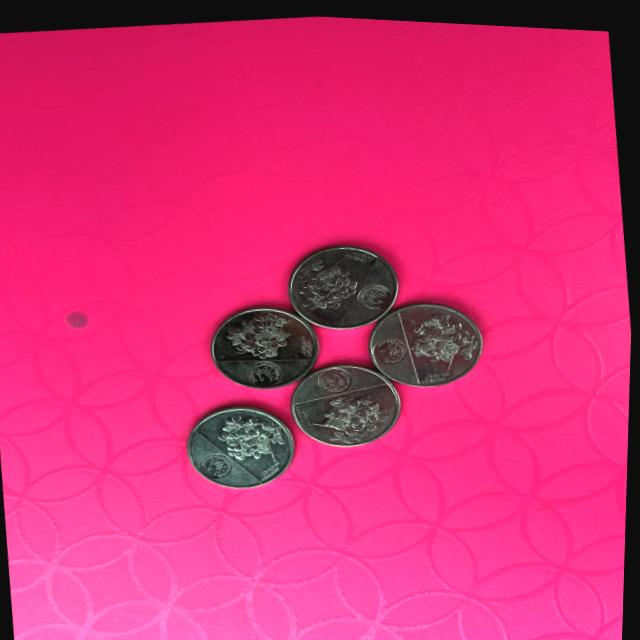1_New_Back: (405, 296, 480, 363), (317, 380, 397, 440), (294, 244, 366, 310), (212, 399, 288, 460), (228, 305, 305, 362)
